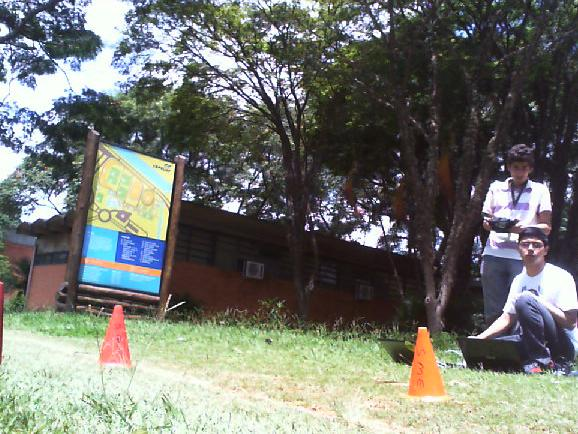0 cone: (404, 326, 450, 403), (97, 304, 131, 365)
